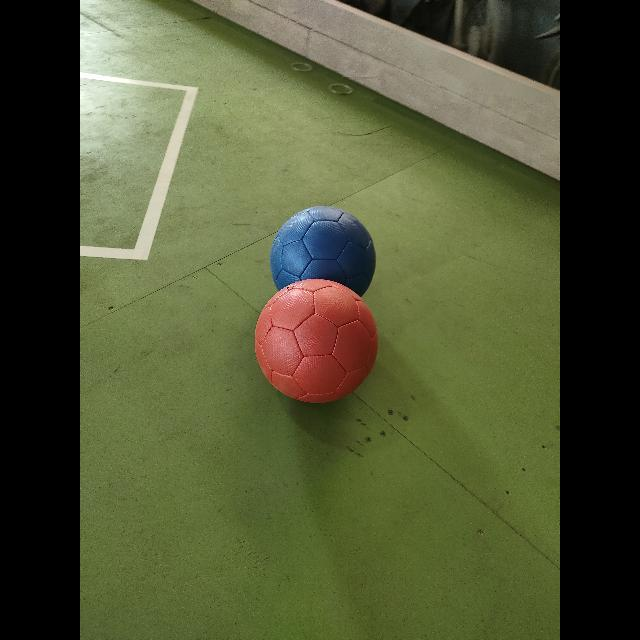B: (270, 206, 375, 295)
R: (255, 279, 378, 402)
